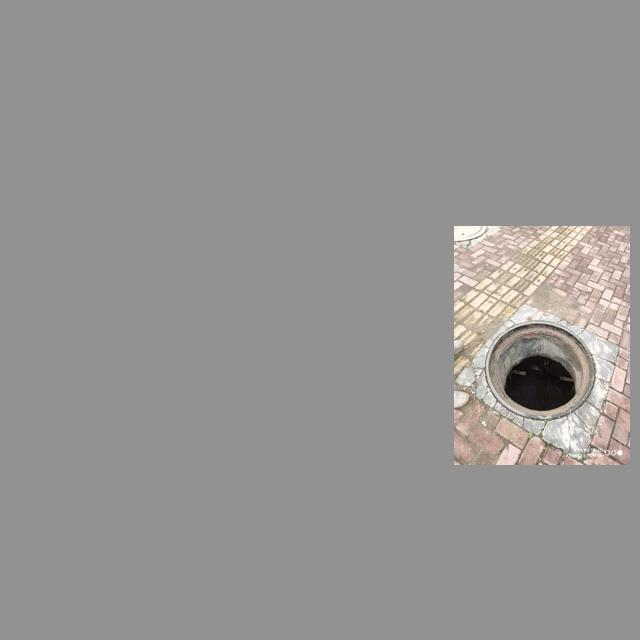lose: (486, 321, 596, 421)
